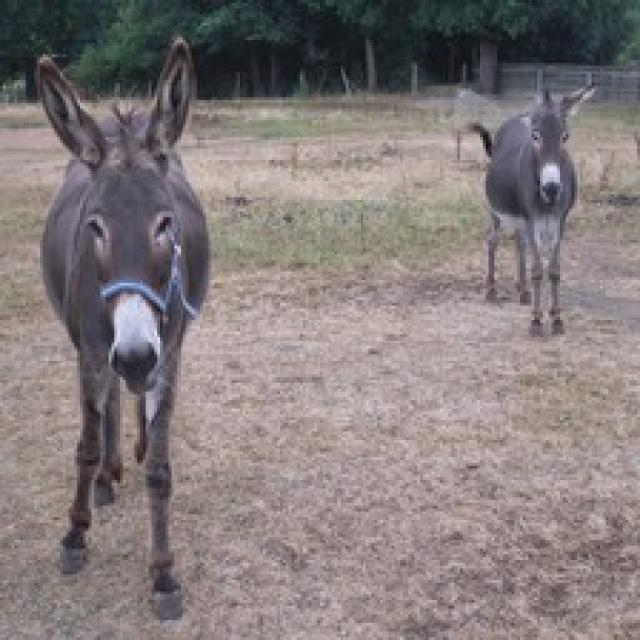Donkey: (6, 14, 248, 633), (449, 42, 600, 354)
